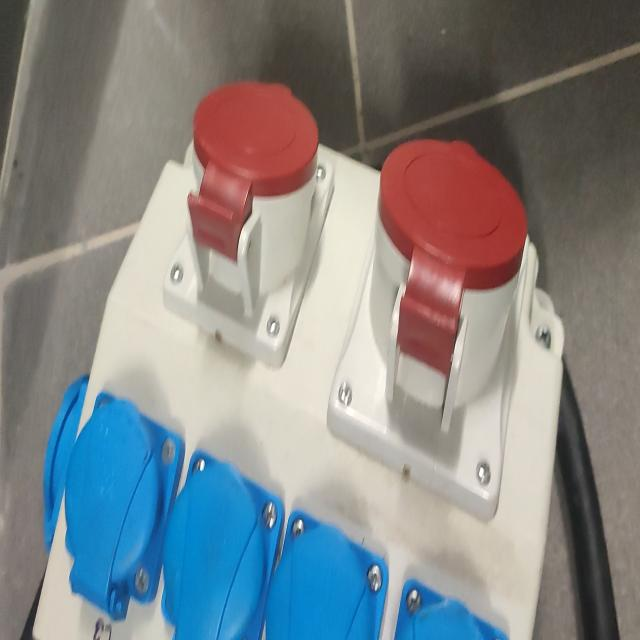400v socket: (325, 137, 527, 516), (164, 80, 336, 361)
house plug covered: (64, 392, 185, 624), (160, 453, 284, 640), (267, 516, 390, 640)
